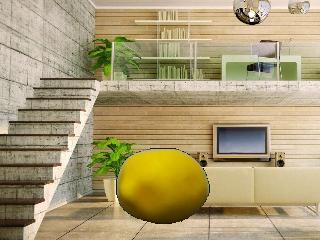lemon: (118, 148, 209, 224)
